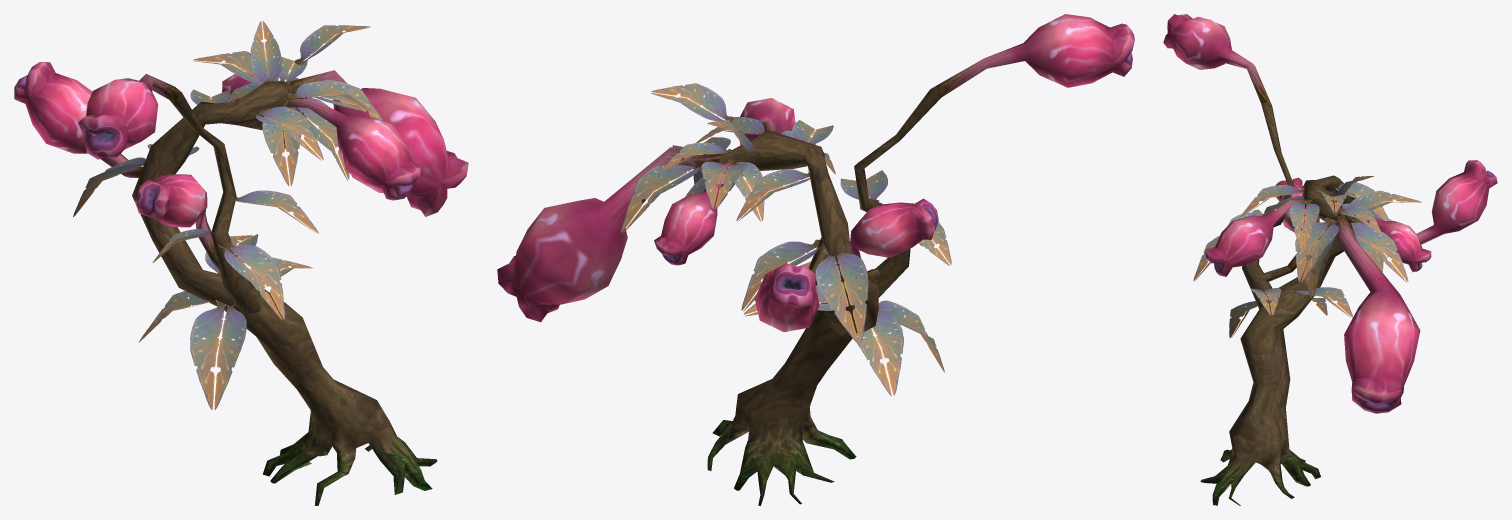
Rendered from Scene_guanmu_004.FBX.
3 renders of one model, left to right at view 1: azimuth 30°, elevation 25°; view 2: azimuth 150°, elevation 25°; view 3: azimuth 270°, elevation 25°, orthographic. The views are drawn at different scales.
Visible parts, largest first — view 1: Scene_guanmu_004; view 2: Scene_guanmu_004; view 3: Scene_guanmu_004.
Boxes of the visible parts, <box> form: Scene_guanmu_004: <box>14,21,468,505</box>; Scene_guanmu_004: <box>497,14,1134,505</box>; Scene_guanmu_004: <box>1163,14,1497,505</box>.
Size of the model in its own units: 152 by 141 by 115.
